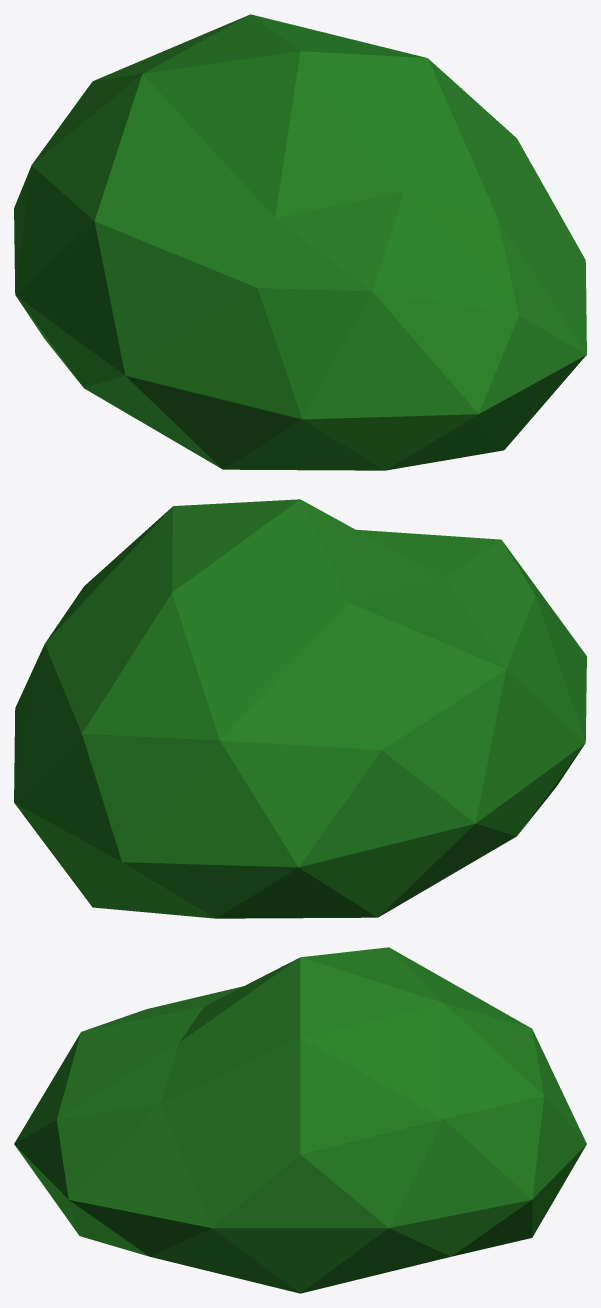
Rendered from Arbusto.fbx.
The picture shows the model from 3 angles, top to bottom: view 1: azimuth 30°, elevation 25°; view 2: azimuth 150°, elevation 25°; view 3: azimuth 270°, elevation 25°; orthographic projection. The views are drawn at different scales.
Visible parts, largest first — view 1: Icosphere; view 2: Icosphere; view 3: Icosphere.
Part boxes in pixels (left/top/right/bottom): Icosphere: left=14, top=14, right=586, bottom=470; Icosphere: left=14, top=499, right=586, bottom=918; Icosphere: left=14, top=947, right=586, bottom=1293.
Bounding box in the file's own units: 280 × 200 × 376.
